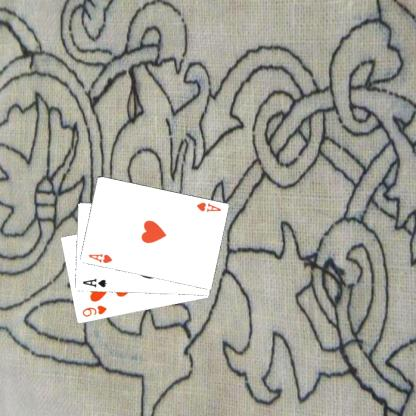9H: (79, 303, 108, 318)
AH: (85, 251, 113, 265), (194, 200, 222, 214)
AS: (80, 276, 108, 289)
